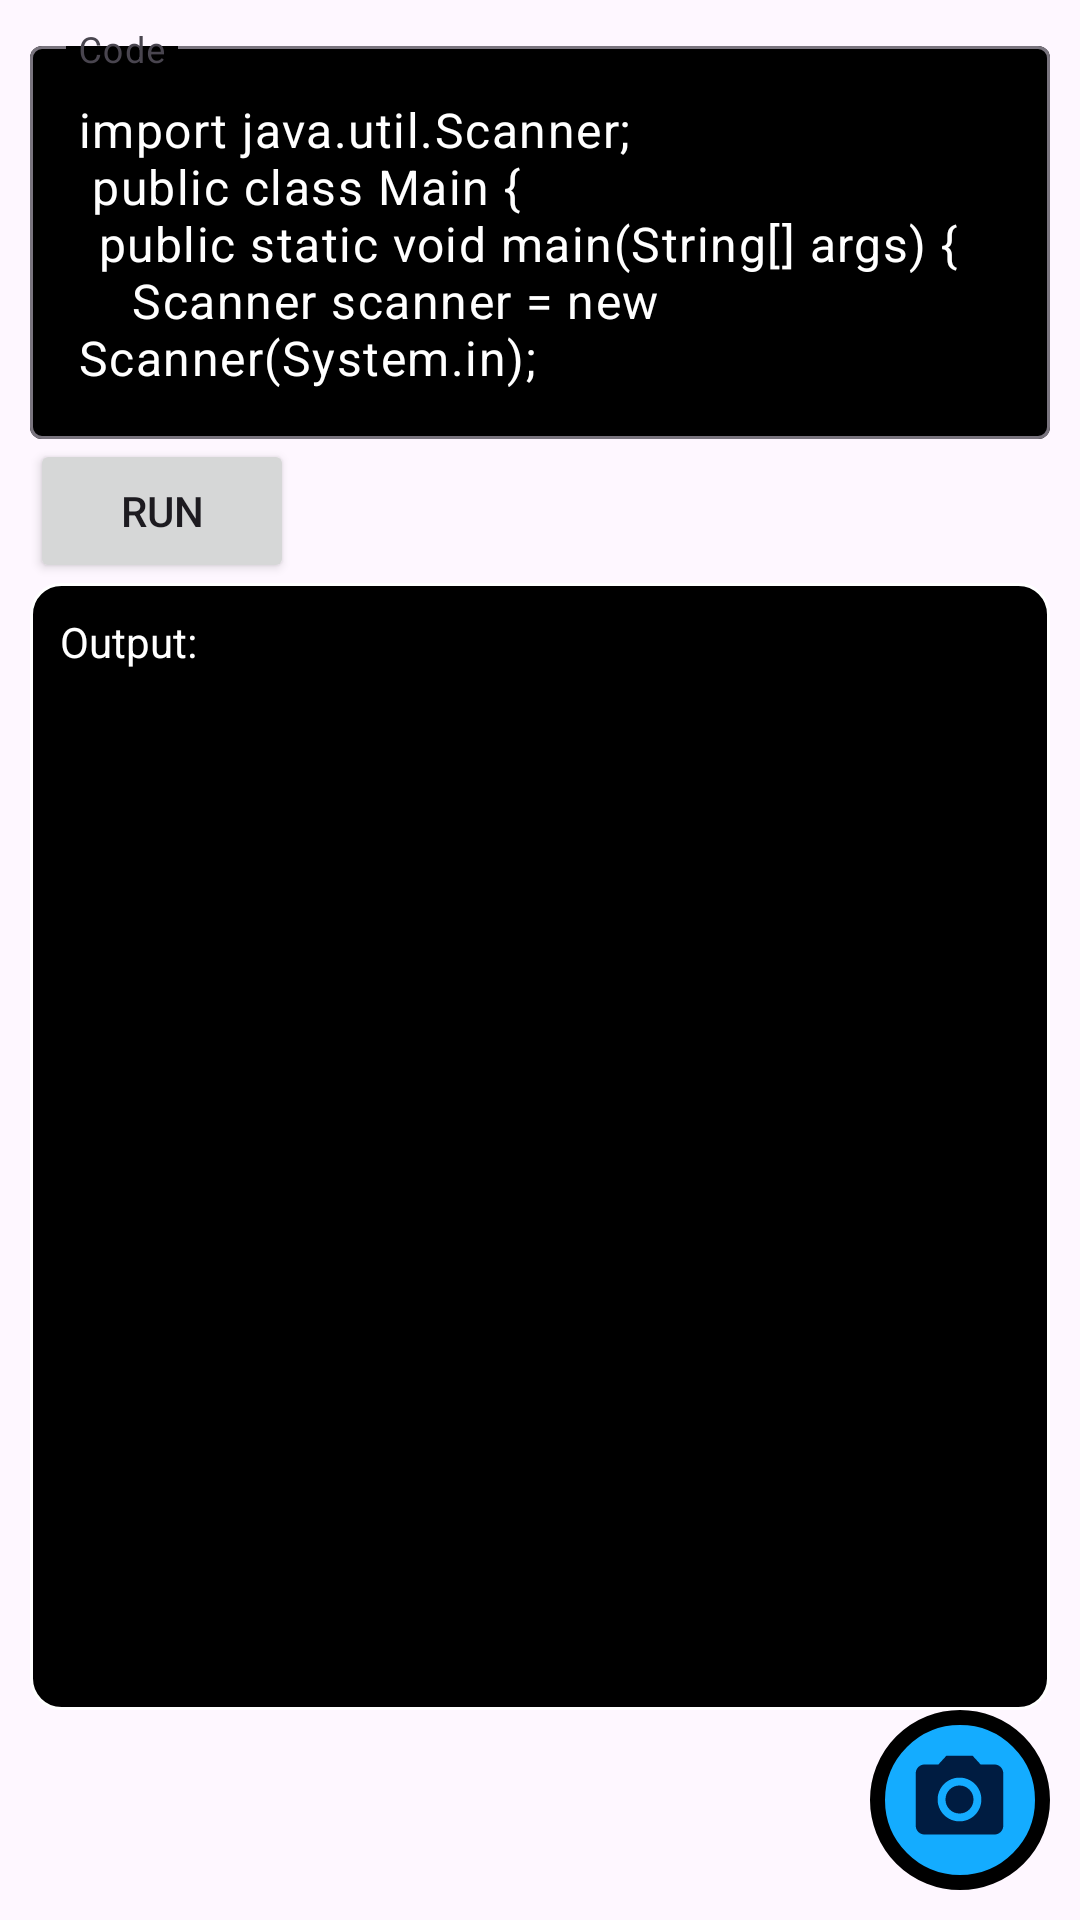

Named icons in this screenshot (1080w x 1920h) and their bounding boxes, box(x1, y1, x2, y2):
camera: box(915, 1755, 1004, 1835)
